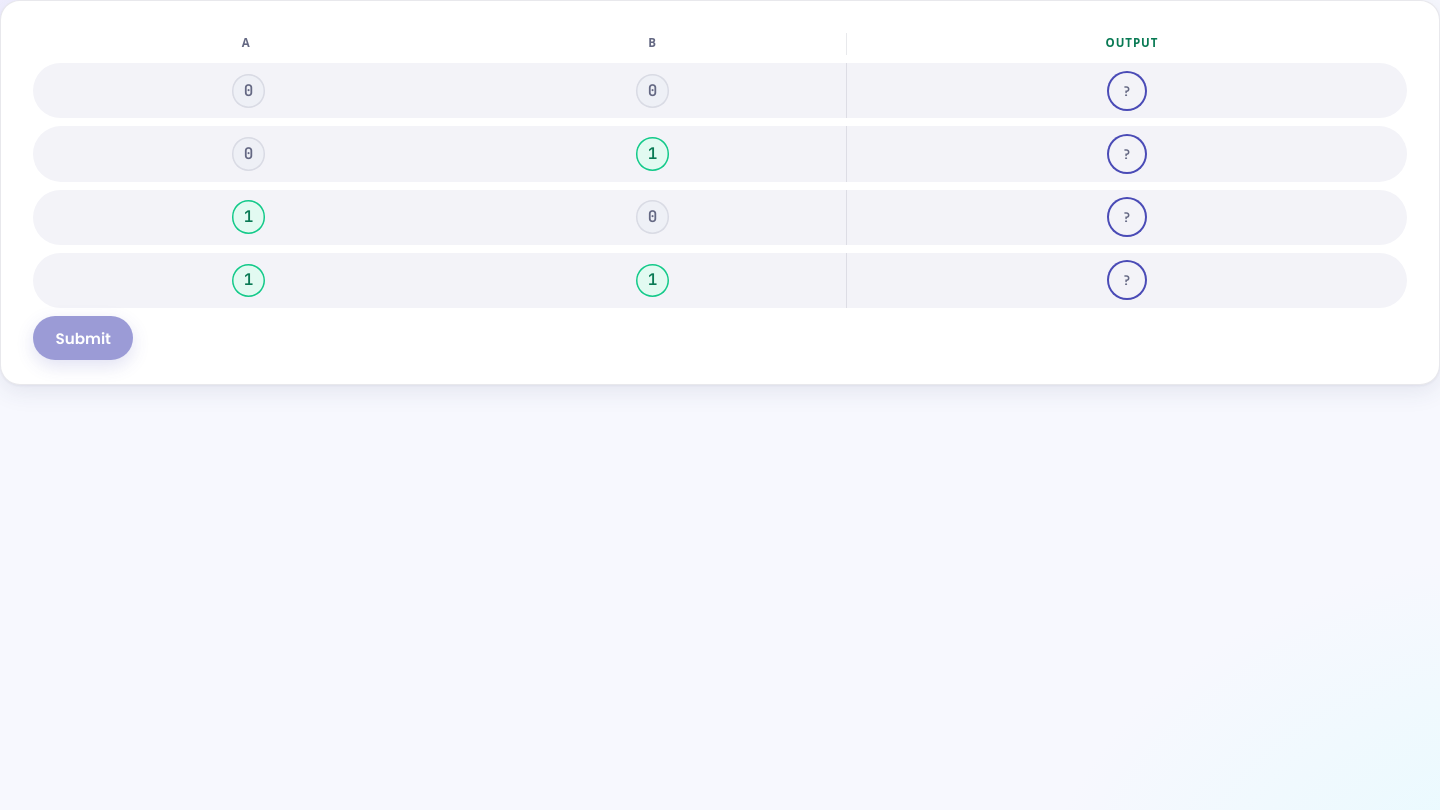
Test: TruthTable toggle behavior — tri-state ? → 0 → 1 → ? (Chunk 1) › cycles ? → 0 → 1 → ? on successive clicks
Click the 1st button "?" at (1127, 91), box [1105,69,1149,113]
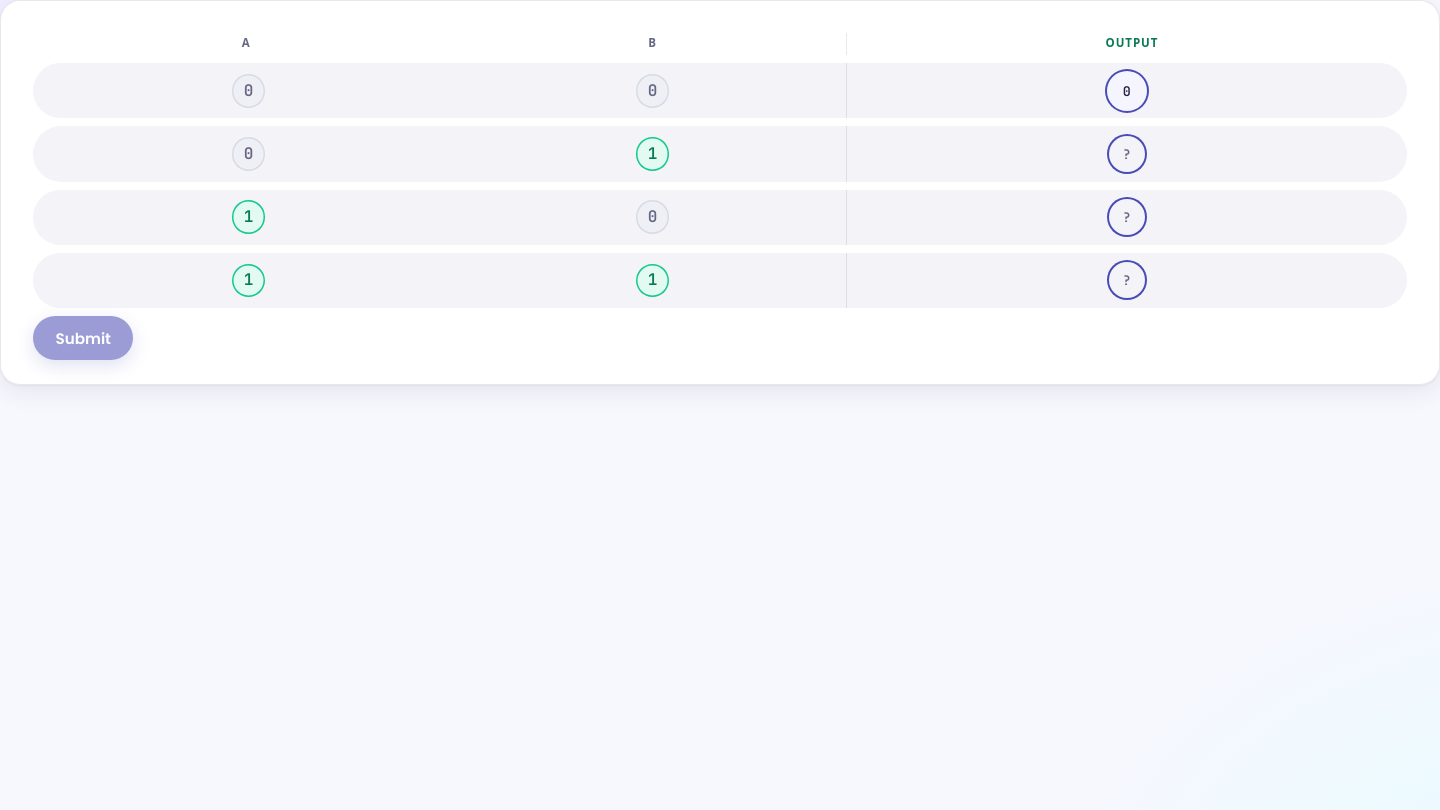
Expected: the button "0" is shown
Click the button "0" at (1127, 91), box [1105,69,1149,113]
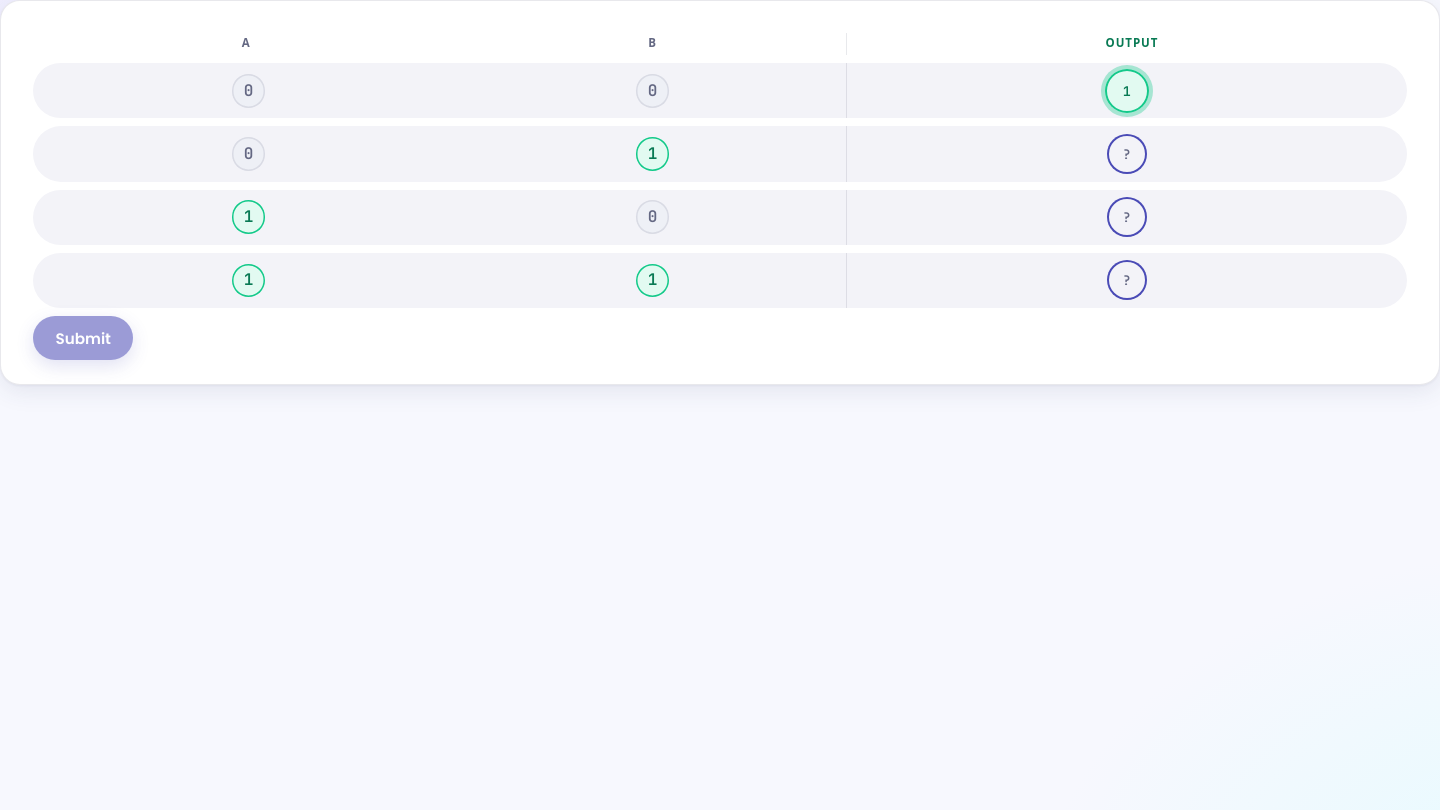
Expected: the button "1" is shown
Click the button "1" at (1127, 91), box [1105,69,1149,113]
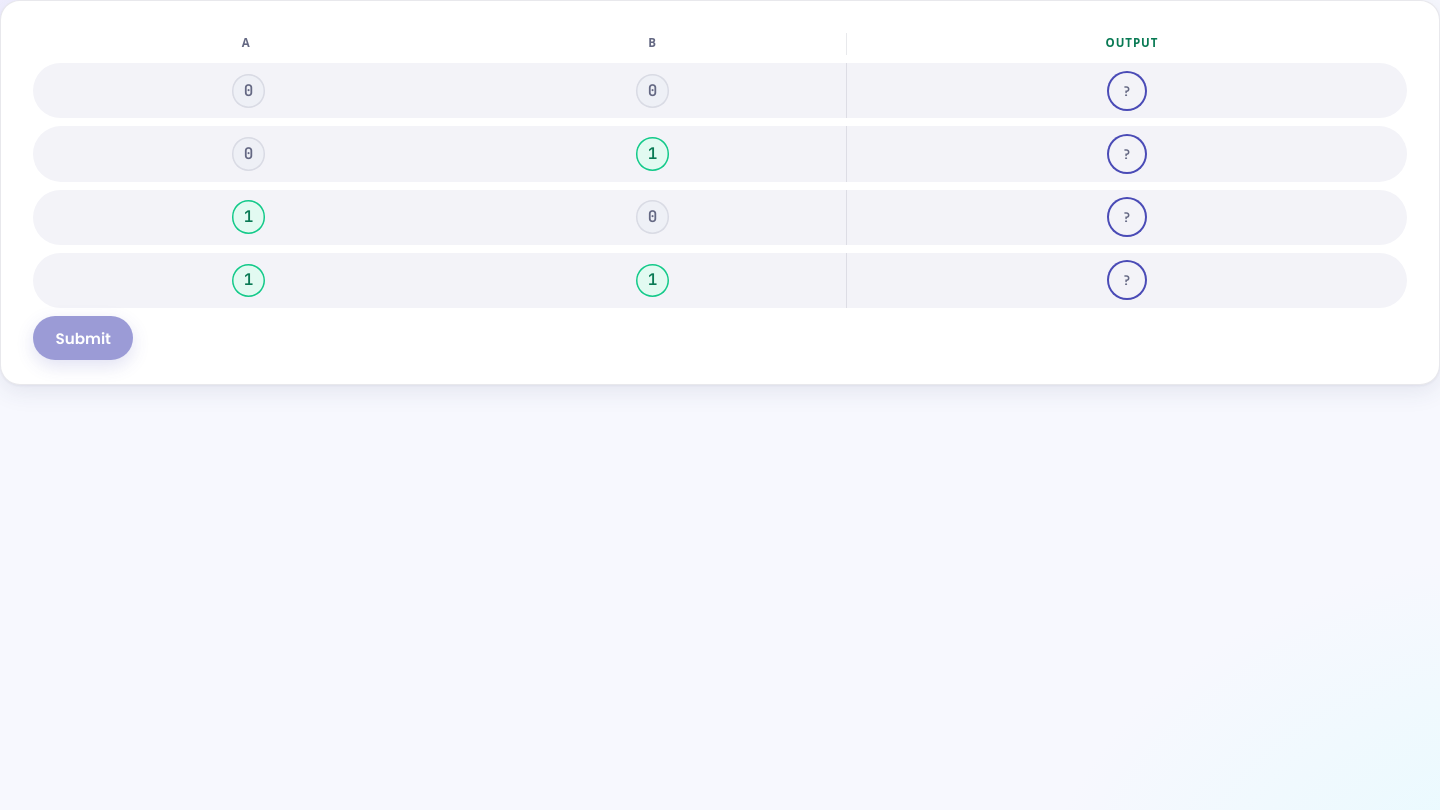
Expected: the 1st button "?" is shown, [1105,69,1149,113]
